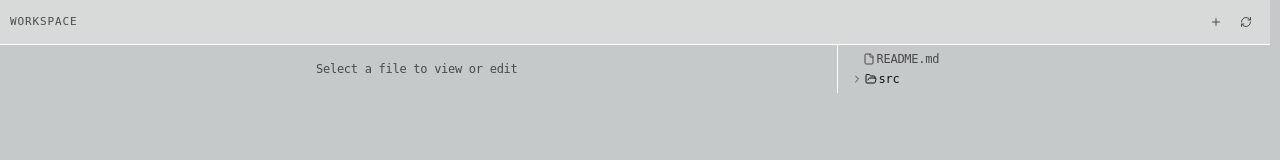
Test: WorkspacePanel interactions › collapses an expanded directory again
This screenshot has width=1280, height=160.
Step 1. Click the button "src" → {"x": 857, "y": 79}, box [845, 69, 1266, 89]
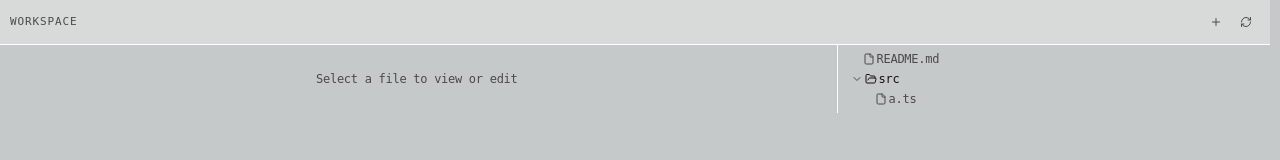
Expected: the button "a.ts" is shown, [845, 89, 1266, 109]
Step 2. Click the button "src" → {"x": 857, "y": 79}, box [845, 69, 1266, 89]
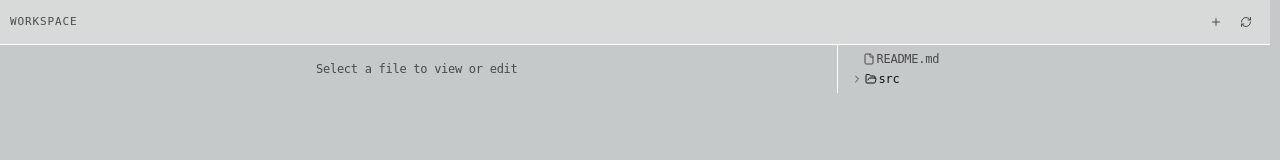
Expected: the button "a.ts" is gone
